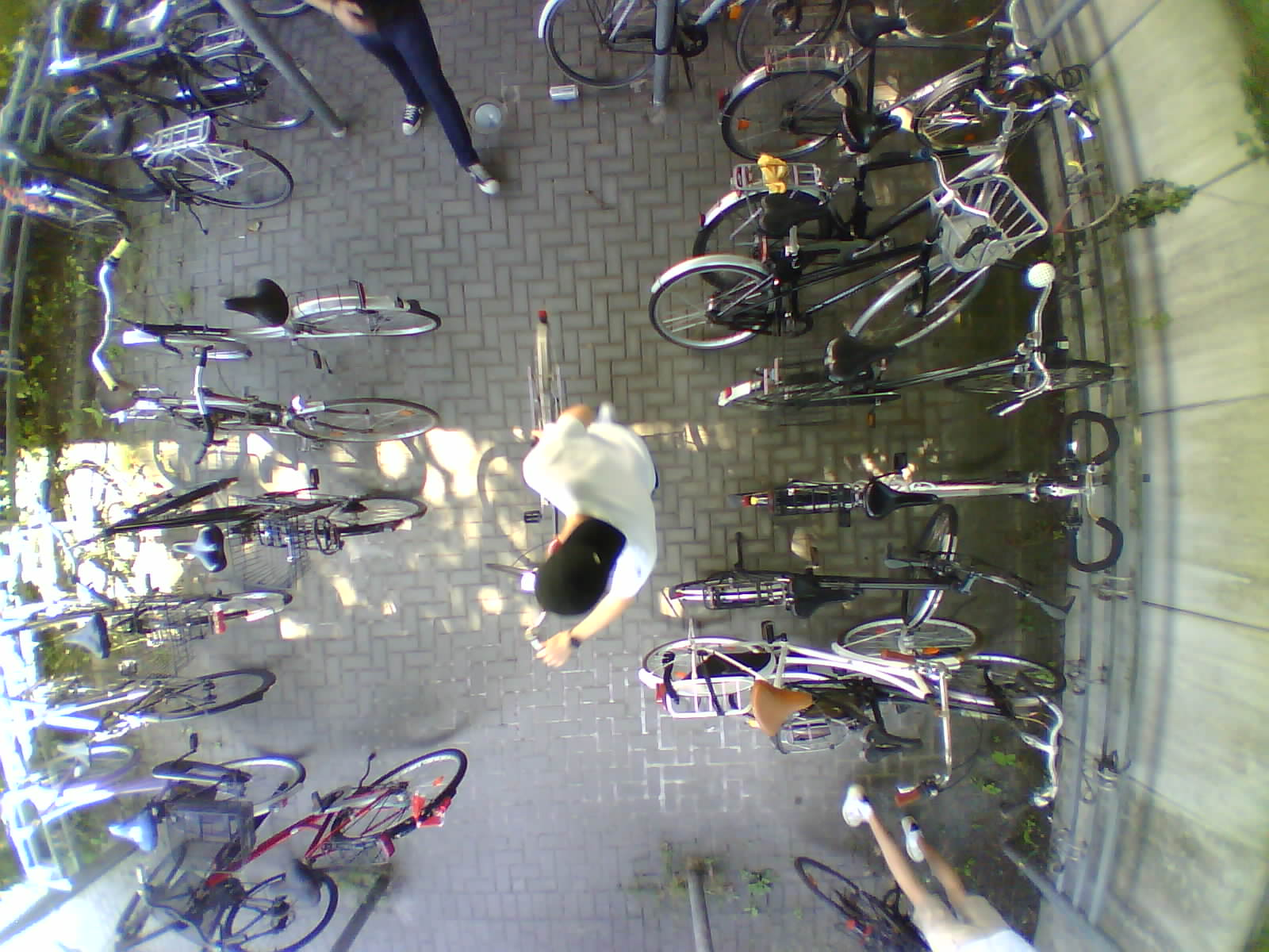bicylce: (648, 196, 997, 353), (694, 113, 1036, 269), (719, 27, 1054, 175), (181, 748, 468, 891), (638, 616, 974, 726), (675, 504, 980, 624), (720, 336, 1111, 428), (734, 656, 1067, 756), (89, 480, 425, 579), (17, 743, 309, 849), (109, 284, 442, 376), (30, 109, 295, 212), (101, 374, 442, 448), (10, 668, 277, 756), (109, 850, 341, 951), (734, 464, 1096, 528), (6, 582, 296, 660), (49, 29, 273, 113)
saddle: (753, 680, 813, 737), (827, 332, 898, 380), (841, 107, 901, 159), (763, 194, 828, 240), (796, 575, 859, 622), (228, 280, 288, 329), (867, 481, 939, 518), (863, 726, 923, 768), (844, 6, 908, 45), (172, 528, 226, 573), (76, 112, 132, 155), (269, 860, 320, 907), (62, 616, 110, 660), (111, 813, 158, 855), (125, 0, 172, 39), (95, 382, 140, 417), (56, 744, 94, 769)
